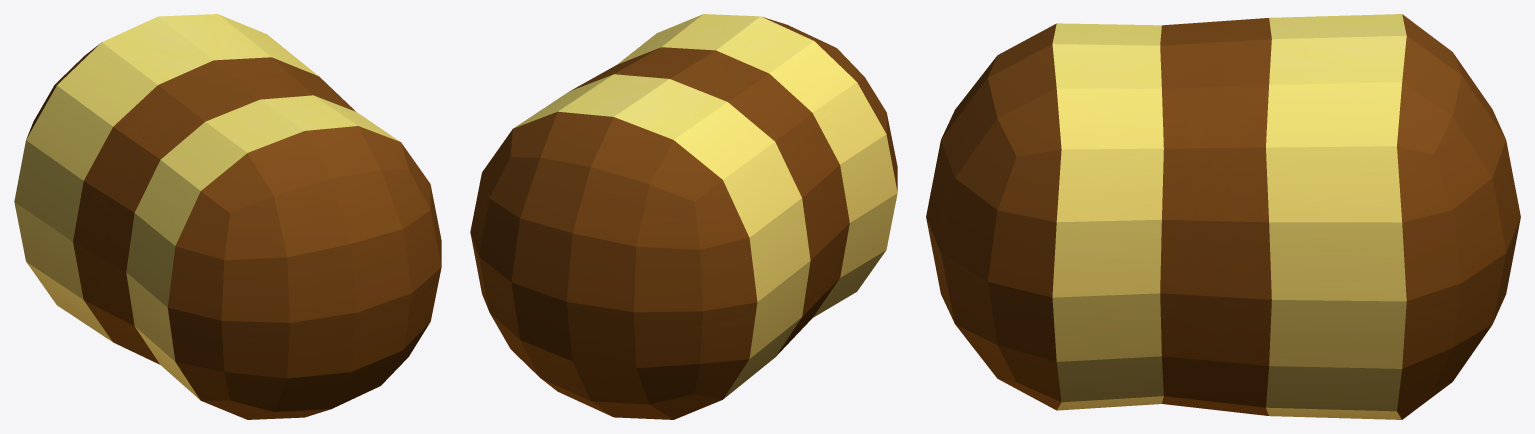
Rendered from bumblebee.fbx.
3 views of the same model, side by side, from view 1: azimuth 30°, elevation 25°; view 2: azimuth 150°, elevation 25°; view 3: azimuth 270°, elevation 25° (orthographic). The views are drawn at different scales.
Visible parts, largest first — view 1: Cube; view 2: Cube; view 3: Cube.
Boxes of the visible parts, x1,y1,x2,y2 form: Cube: (14,14,441,419); Cube: (470,14,897,419); Cube: (926,14,1520,419).
Size of the model in its own units: 1.56 by 1.56 by 2.32.
